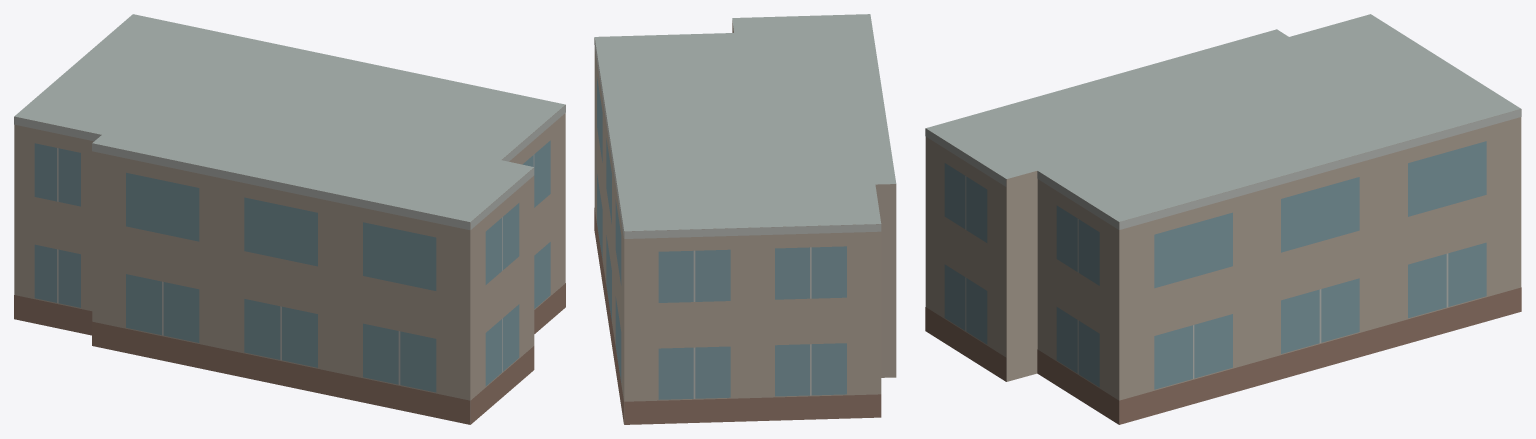
The model's file is survey-upis-32807160.glb.
The picture shows the model from 3 angles, left to right: view 1: azimuth 30°, elevation 25°; view 2: azimuth 150°, elevation 25°; view 3: azimuth 270°, elevation 25°; orthographic projection. The views are drawn at different scales.
Parts seen in each view (by area): view 1: survey-upis-32807160.tmp; view 2: survey-upis-32807160.tmp; view 3: survey-upis-32807160.tmp.
Part boxes in pixels (x1=…): survey-upis-32807160.tmp: x1=14, y1=14, x2=565, y2=424; survey-upis-32807160.tmp: x1=594, y1=14, x2=896, y2=424; survey-upis-32807160.tmp: x1=925, y1=14, x2=1521, y2=424.
Bounding box in the file's own units: 13.43 × 6.1 × 16.25.
